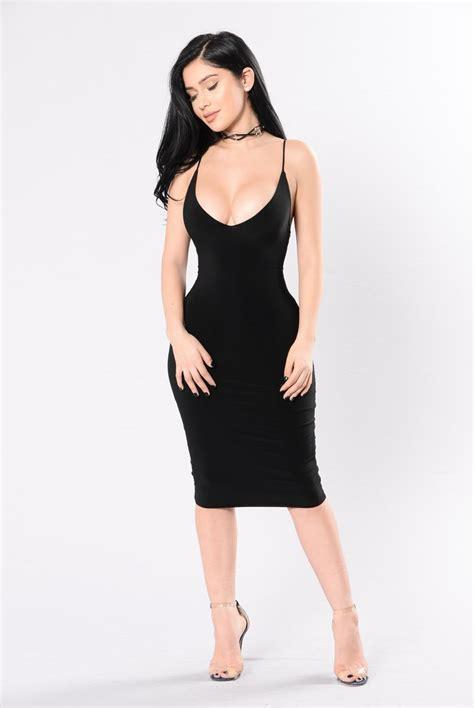dress: (167, 138, 326, 510)
